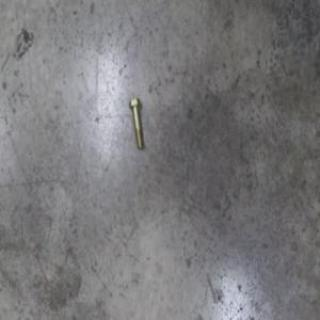Bolttrack_idkeyframe: (128, 96, 142, 148)
